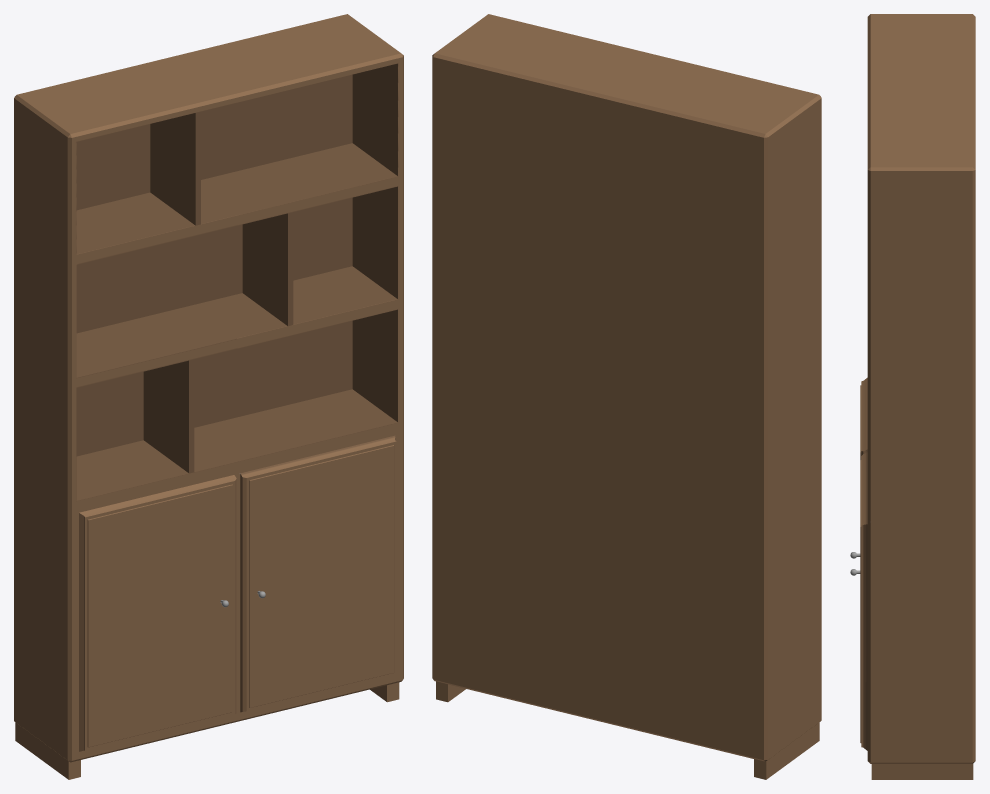
The model's file is LongCabinet.glb.
3 views of the same model, side by side, from view 1: azimuth 30°, elevation 25°; view 2: azimuth 150°, elevation 25°; view 3: azimuth 270°, elevation 25° (orthographic). The views are drawn at different scales.
Visible parts, largest first — view 1: Long Cabinet; view 2: Long Cabinet; view 3: Long Cabinet.
Part boxes in pixels (bbox=[...]): Long Cabinet: bbox=[14, 14, 403, 779]; Long Cabinet: bbox=[432, 14, 821, 779]; Long Cabinet: bbox=[850, 14, 975, 779].
Bounding box in the file's own units: 1.42 × 2.6 × 0.4805.
1 material, 1 textured.
